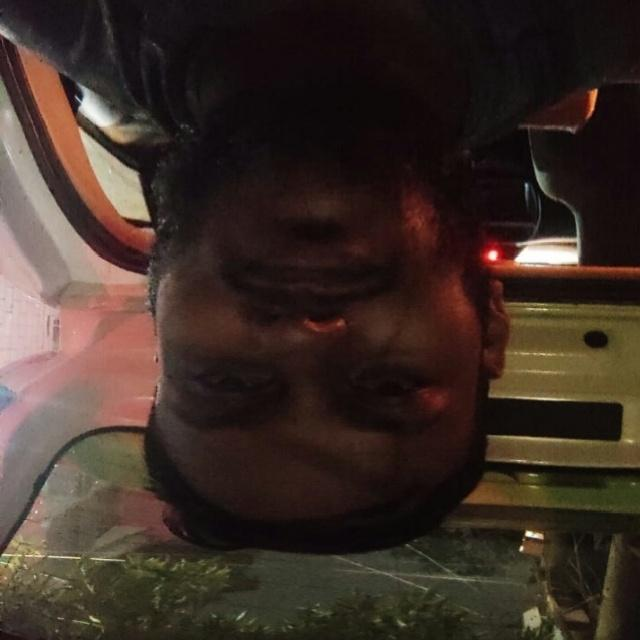Natural: (139, 103, 539, 608)
